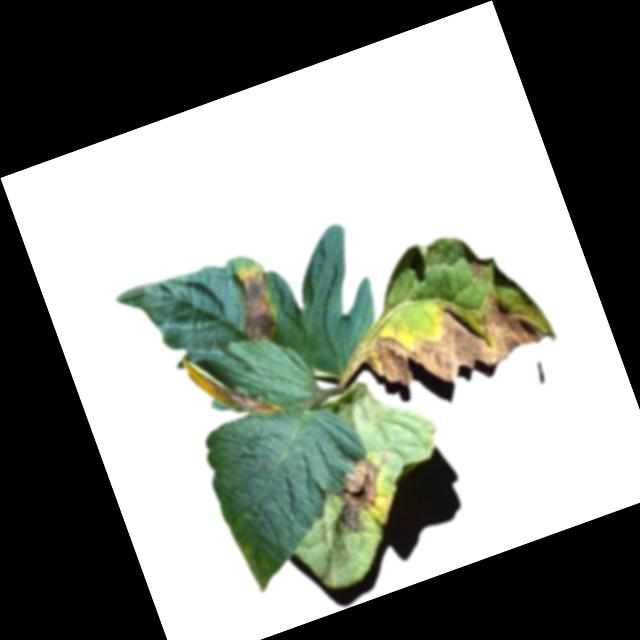Early_blight: (357, 271, 567, 407), (187, 339, 277, 430), (315, 454, 394, 540), (225, 262, 287, 344), (465, 257, 489, 281)
